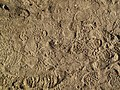human_footprint: (20, 74, 64, 88), (2, 0, 33, 18), (89, 56, 120, 68), (81, 70, 101, 88), (72, 8, 83, 34)
